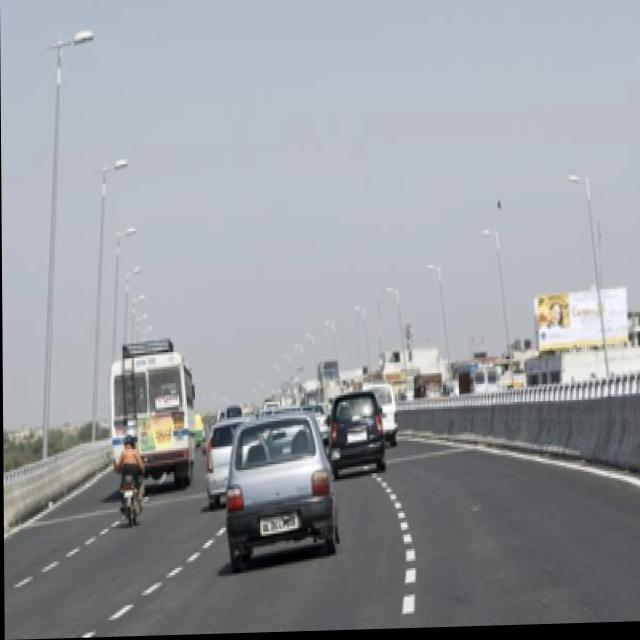licence: (258, 511, 301, 538)
